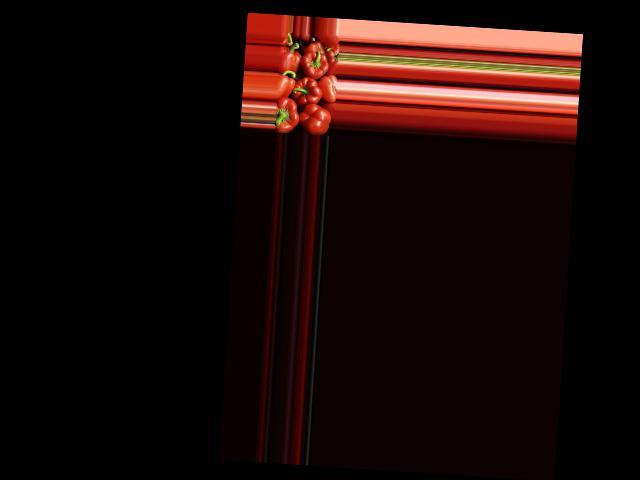bell_pepper: (319, 74, 336, 103)
